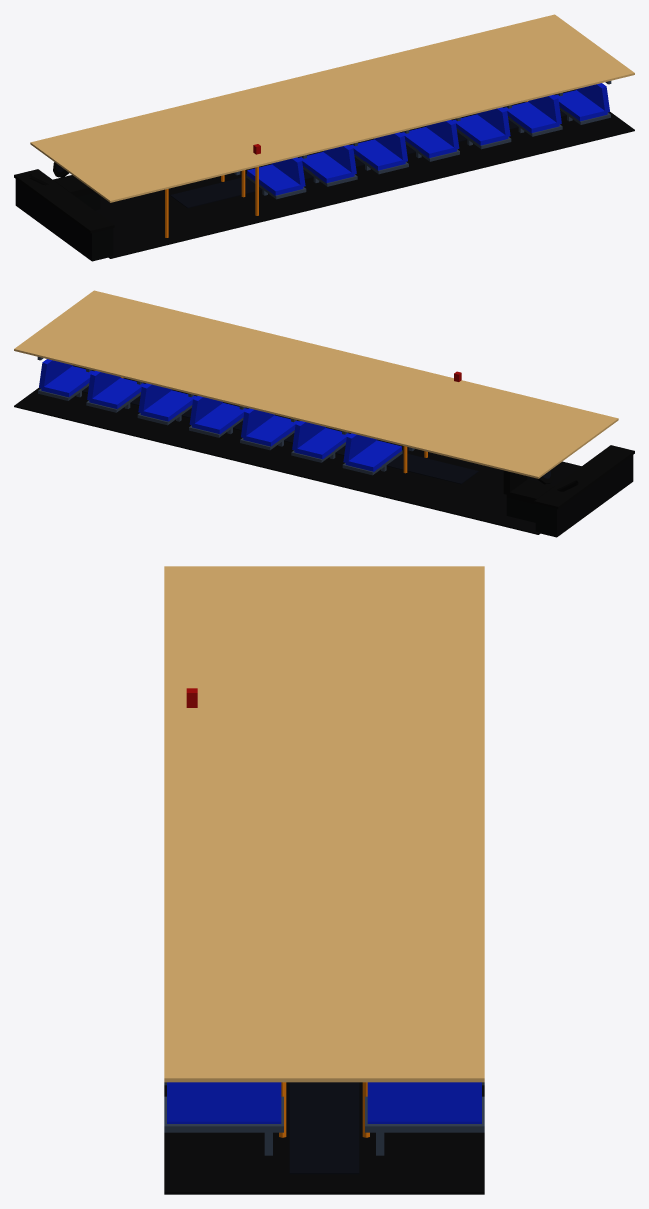
File: bus_interior.glb
3 views of the same model, one above another, from view 1: azimuth 30°, elevation 25°; view 2: azimuth 150°, elevation 25°; view 3: azimuth 270°, elevation 25° (orthographic). The views are drawn at different scales.
Visible parts, largest first — view 1: SM_BusInterior; view 2: SM_BusInterior; view 3: SM_BusInterior.
Part boxes in pixels (left/top/right/bottom): SM_BusInterior: left=14, top=14, right=634, bottom=261; SM_BusInterior: left=14, top=290, right=634, bottom=537; SM_BusInterior: left=164, top=566, right=484, bottom=1194.
Size of the model in its own units: 9.04 by 1.12 by 2.3.
Materials: 1 (1 with a texture image).
